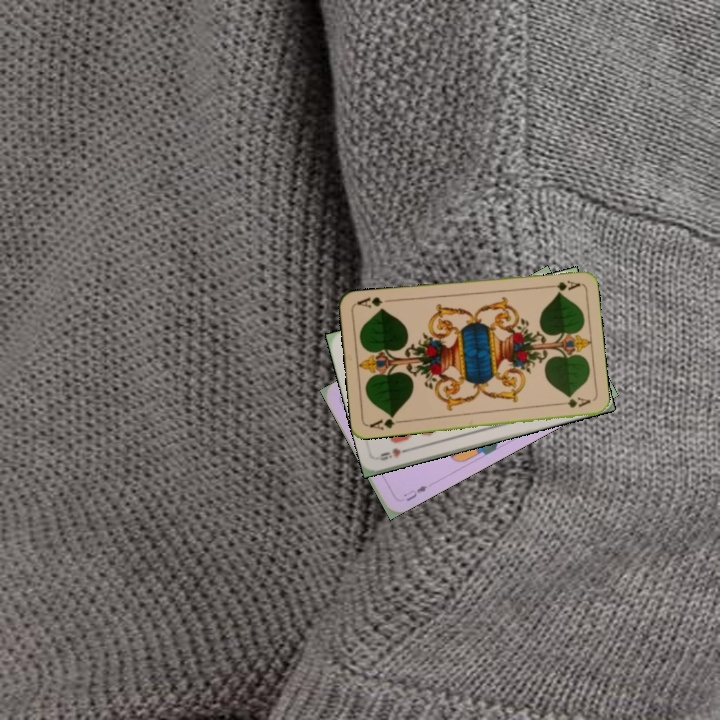EU: (400, 481, 430, 504)
GA: (365, 411, 406, 433), (541, 276, 582, 293)
H9: (374, 443, 414, 463)
